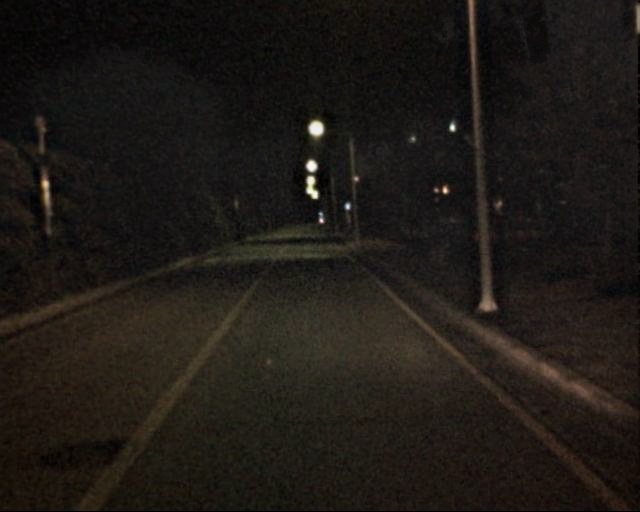person: (437, 214, 459, 267), (426, 220, 444, 264)
